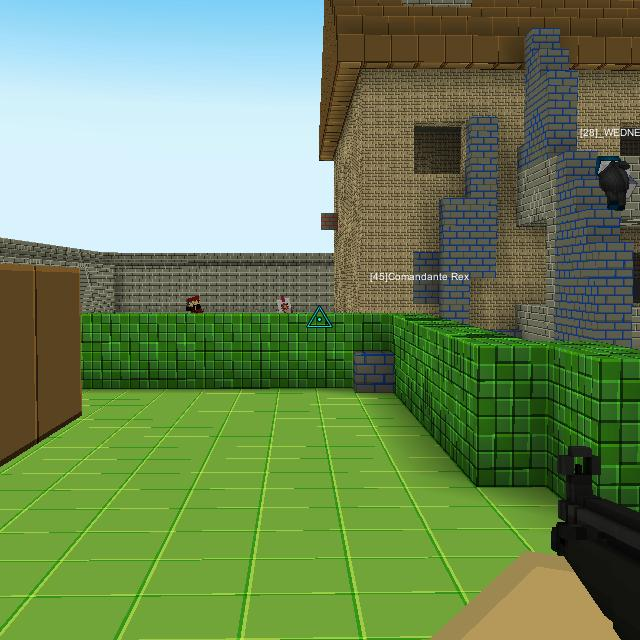enemy: (274, 295, 296, 314), (186, 295, 200, 312)
